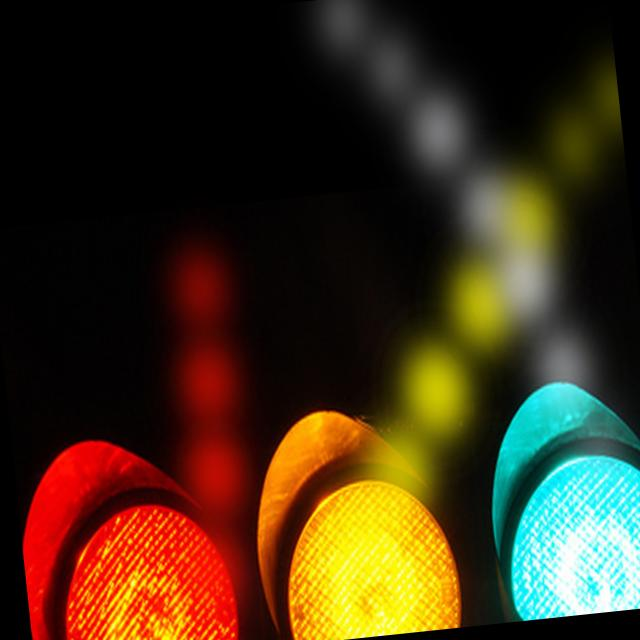green-lights: (482, 400, 640, 585)
red-lights: (55, 474, 228, 640)
yellow-lights: (275, 458, 450, 632)
